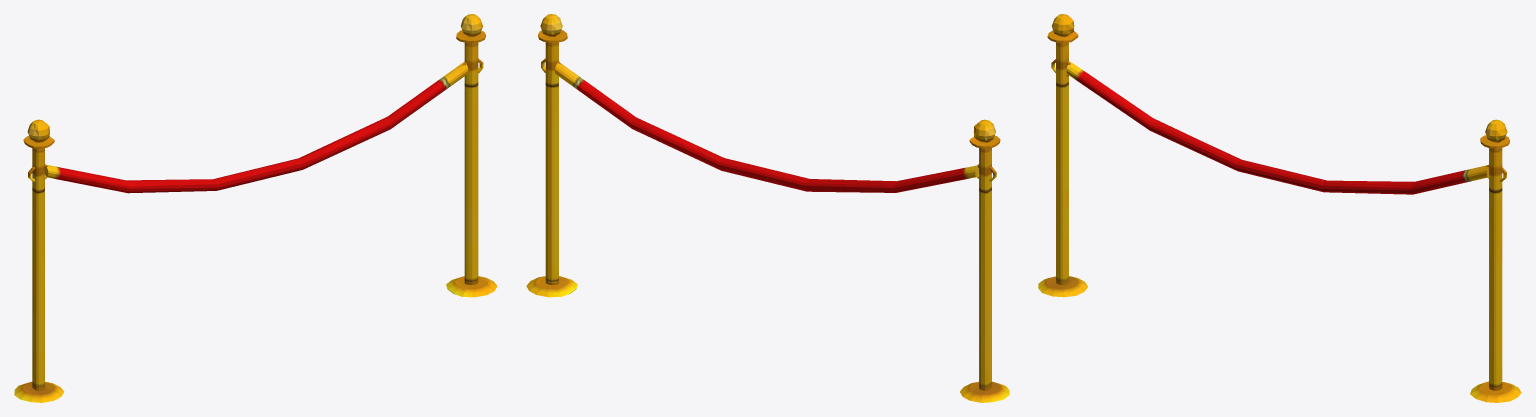
The model's file is Bankthng.glb.
3 renders of one model, left to right at view 1: azimuth 30°, elevation 25°; view 2: azimuth 150°, elevation 25°; view 3: azimuth 330°, elevation 25°, orthographic.
Visible parts, largest first — view 1: Bankthng; view 2: Bankthng; view 3: Bankthng.
Boxes of the visible parts, box(x1,y1,x2,y2) form: Bankthng: box(14, 14, 497, 402); Bankthng: box(526, 14, 1009, 402); Bankthng: box(1038, 14, 1521, 402).
Size of the model in its own units: 218 by 119 by 19.93.
Materials: 1 (1 with a texture image).
